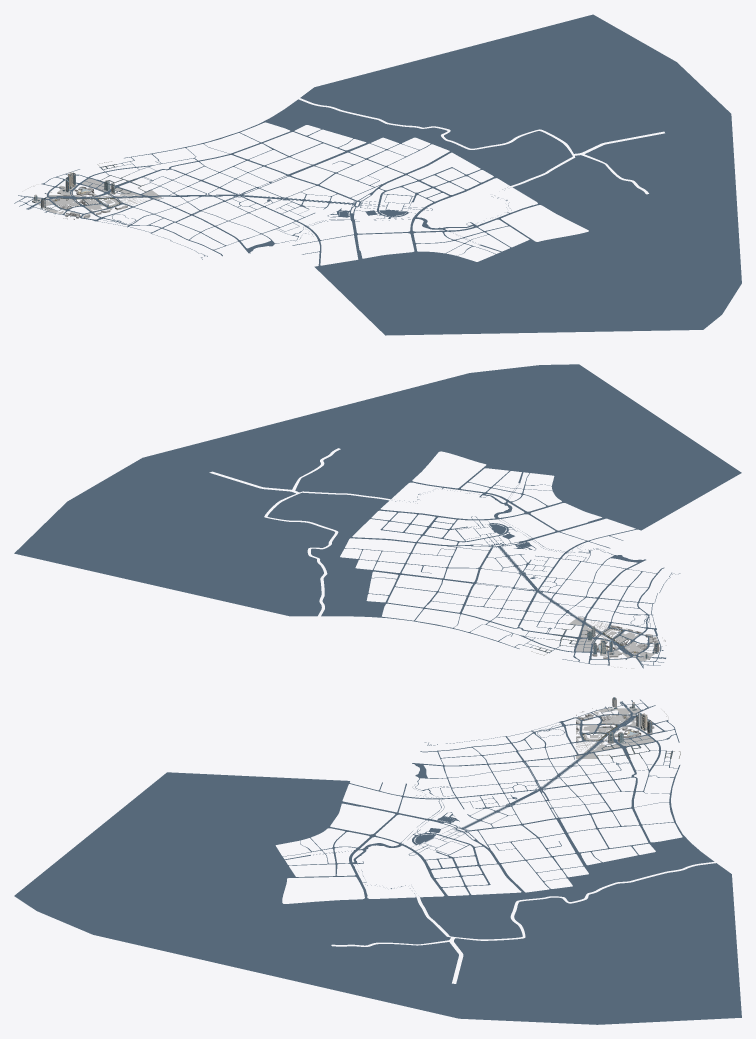
Rendered from lujiazui-1.glb.
3 renders of one model, top to bottom at view 1: azimuth 30°, elevation 25°; view 2: azimuth 150°, elevation 25°; view 3: azimuth 270°, elevation 25°, orthographic. The views are drawn at different scales.
Parts seen in each view (by area): view 1: source_1281_Mat3d66-1303573-2113-6182_part0, source_1391_PUDI2_part0; view 2: source_1281_Mat3d66-1303573-2113-6182_part0, source_1391_PUDI2_part0; view 3: source_1281_Mat3d66-1303573-2113-6182_part0, source_1391_PUDI2_part0.
Boxes of the visible parts, x1=… form: source_1281_Mat3d66-1303573-2113-6182_part0: x1=14, y1=14, x2=741, y2=335; source_1391_PUDI2_part0: x1=32, y1=178, x2=161, y2=213; source_1281_Mat3d66-1303573-2113-6182_part0: x1=14, y1=364, x2=741, y2=668; source_1391_PUDI2_part0: x1=574, y1=617, x2=659, y2=660; source_1281_Mat3d66-1303573-2113-6182_part0: x1=14, y1=699, x2=741, y2=1024; source_1391_PUDI2_part0: x1=576, y1=708, x2=653, y2=758.
Size of the model in its own units: 9634 by 262 by 9115.
